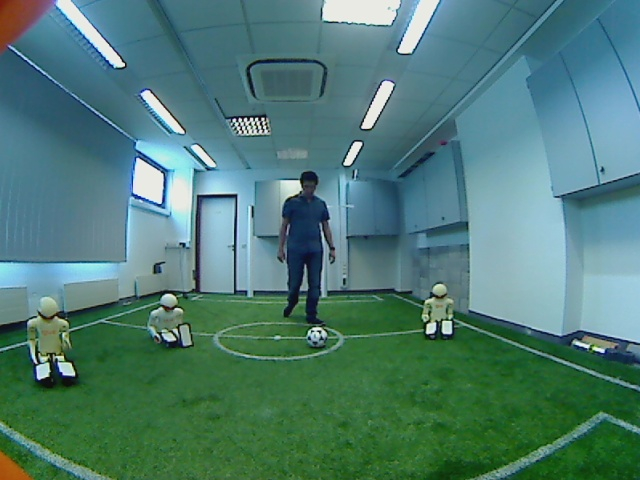ball: (301, 323, 331, 352)
robot: (22, 291, 83, 392), (145, 287, 195, 353), (418, 281, 460, 343)
